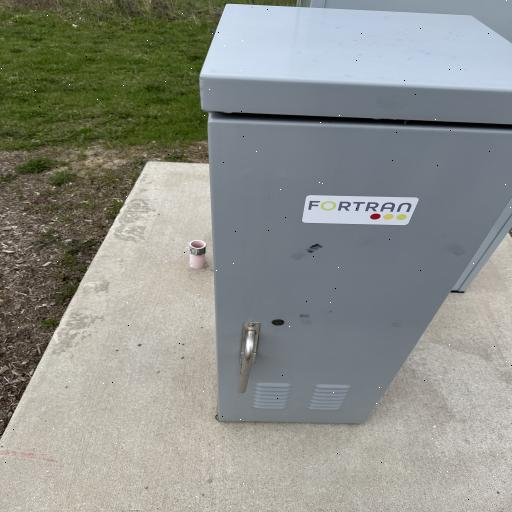Electrical Box: (196, 3, 512, 425)
